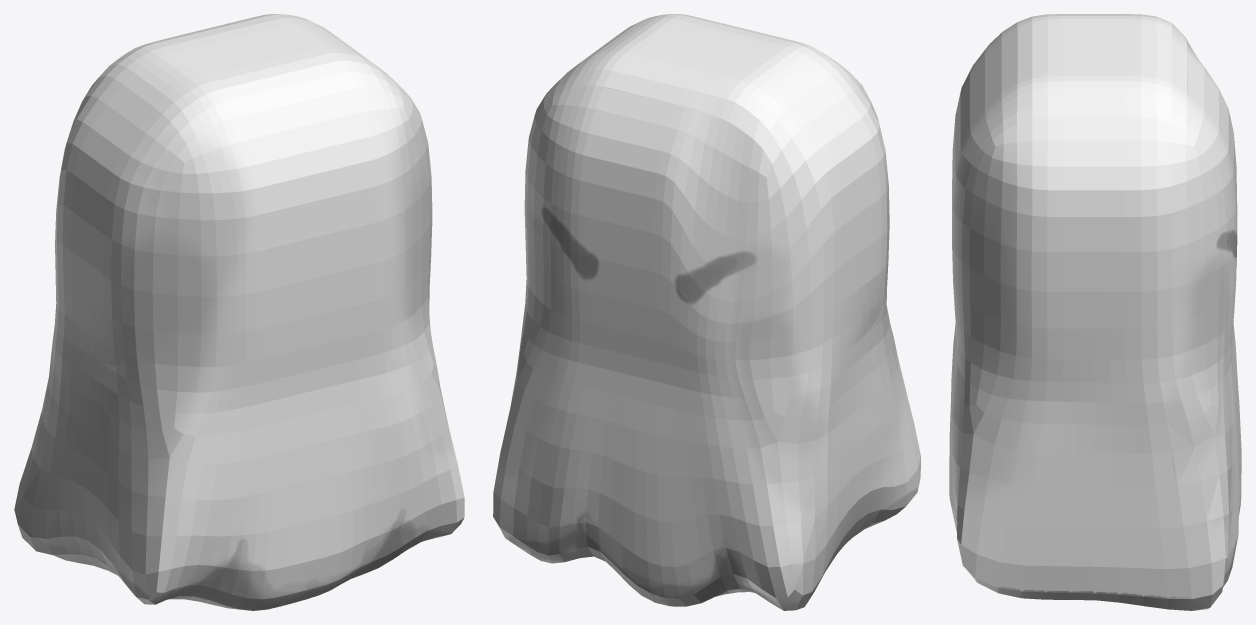
Rendered from SpiritEnemy.fbx.
3 views of the same model, side by side, from view 1: azimuth 30°, elevation 25°; view 2: azimuth 150°, elevation 25°; view 3: azimuth 270°, elevation 25° (orthographic). The views are drawn at different scales.
Parts seen in each view (by area): view 1: Cube.011; view 2: Cube.011; view 3: Cube.011.
Boxes of the visible parts, left/top/right/bottom form: Cube.011: left=14, top=14, right=464, bottom=610; Cube.011: left=493, top=14, right=920, bottom=610; Cube.011: left=949, top=14, right=1241, bottom=610.
Size of the model in its own units: 0.288 by 0.4478 by 0.2319.
1 material, 1 textured.
